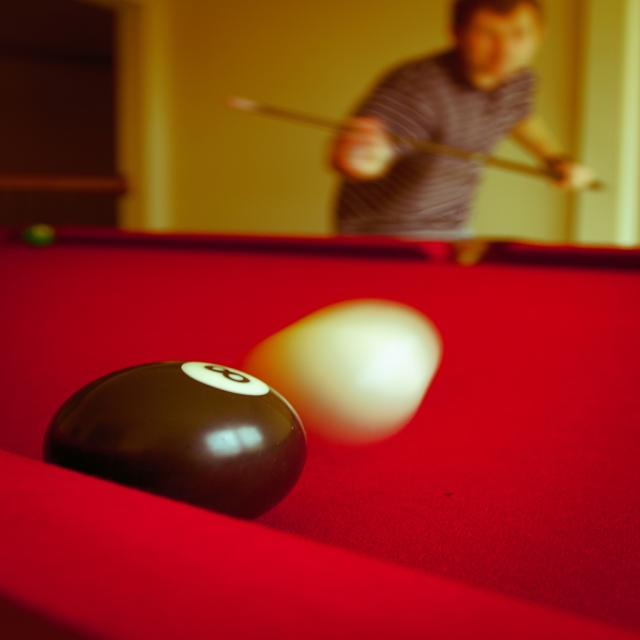Ball: (43, 361, 307, 521), (252, 298, 441, 443), (21, 221, 58, 247)
Billiard table: (0, 220, 640, 640)
